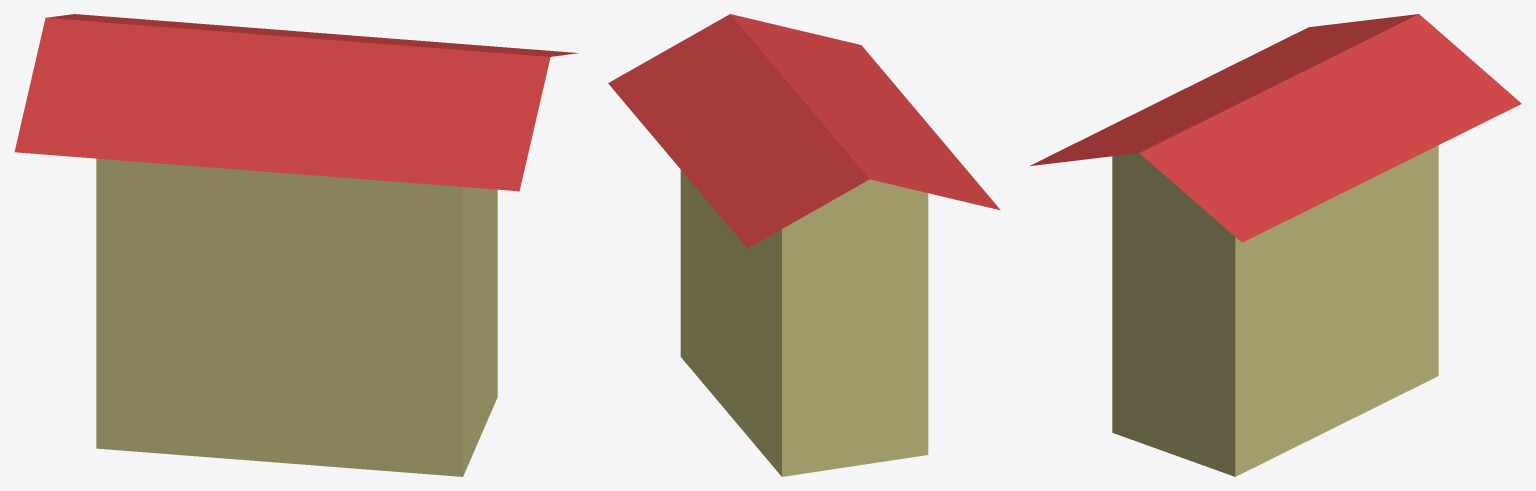
3 renders of one model, left to right at view 1: azimuth 30°, elevation 25°; view 2: azimuth 150°, elevation 25°; view 3: azimuth 270°, elevation 25°, orthographic. The views are drawn at different scales.
Size of the model in its own units: 8.62 by 8.33 by 6.01.
